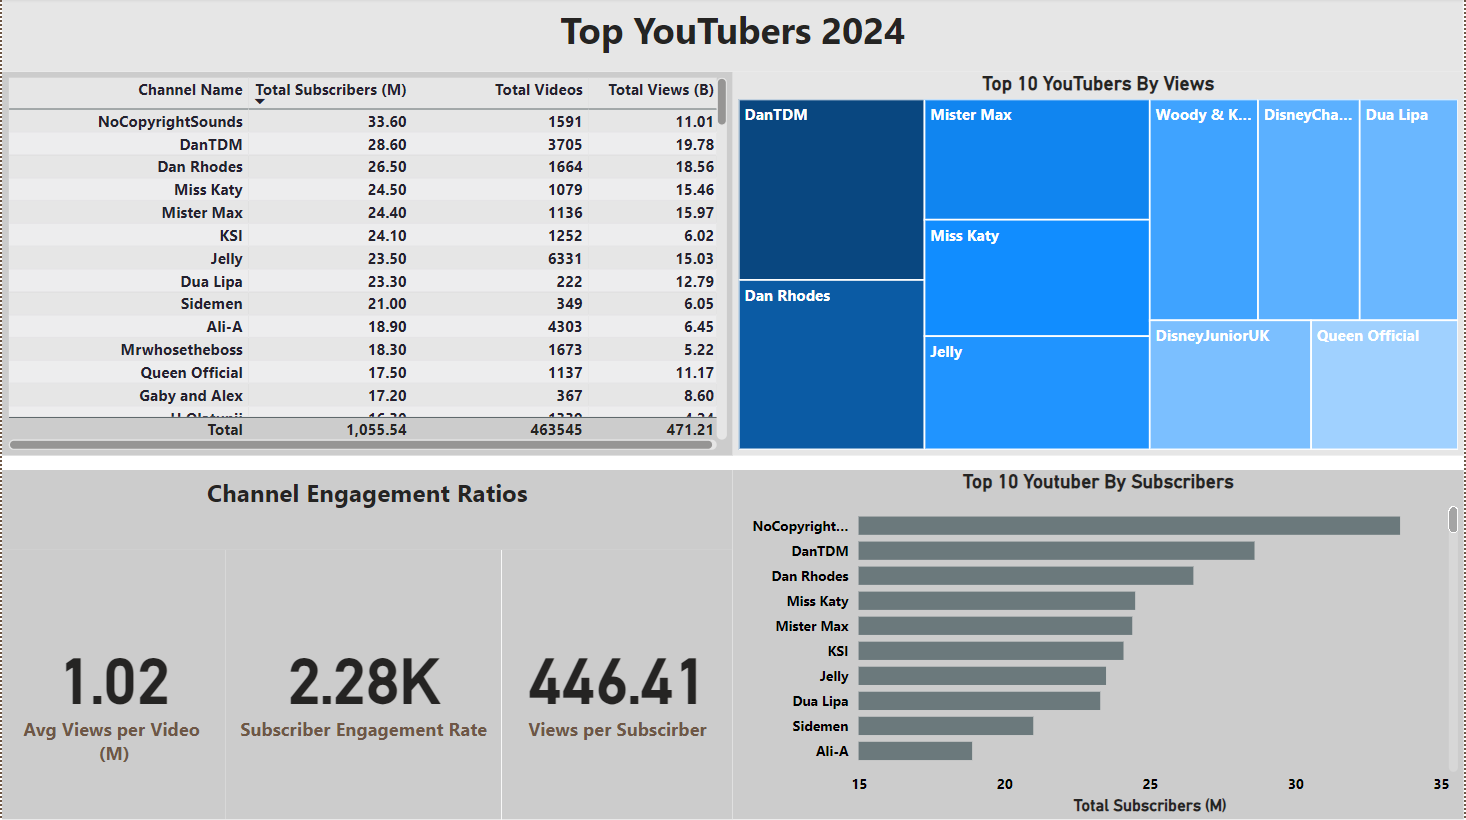

What the dashboard file says about the page in this screenshot:
{"tool":"powerbi","page":{"name":"yt_data","canvas":[1280,720],"ordinal":0},"visuals":[{"type":"textbox","box":[0,0,1280,65.2],"z":0},{"type":"tableEx","fields":{"Values":["view_youtubers_2024.channel_name","view_youtubers_2024.Total Subscribers (M)","view_youtubers_2024.Total Videos","view_youtubers_2024.Total Views (B)"]},"box":[0,65.2,640,335.6],"z":1000},{"type":"treemap","title":"Top 10 YouTubers By Views","fields":{"Group":["view_youtubers_2024.channel_name"],"Values":["view_youtubers_2024.Total Views (B)"]},"box":[640,65.2,640,335.6],"z":2000},{"type":"card","fields":{"Values":["view_youtubers_2024.Avg Views per Video (M)"]},"box":[0,483.4,196.5,236.4],"z":3000},{"type":"card","fields":{"Values":["view_youtubers_2024.Subscriber Engagement Rate"]},"box":[196.5,483.4,241.2,236.4],"z":4000},{"type":"card","fields":{"Values":["view_youtubers_2024.Views per Subscirber"]},"box":[437.7,483.4,202.3,236.4],"z":5000},{"type":"clusteredBarChart","title":"Top 10 Youtuber By Subscribers ","fields":{"Category":["view_youtubers_2024.channel_name"],"Y":["view_youtubers_2024.Total Subscribers (M)"]},"box":[640,413.4,640,306.4],"z":6000},{"type":"textbox","box":[0,413.4,640,70],"z":7000}]}

Visuals, with their boxes in screenshot pixels (x1, y1, x2, y2), scaled from the page's 1280x720 canvas onto the 1466x820 screenshot:
textbox: 0 0 1465 74
tableEx - view_youtubers_2024.channel_name x view_youtubers_2024.Total Subscribers (M): 0 74 733 456
"Top 10 YouTubers By Views" treemap: 733 74 1465 456
card - view_youtubers_2024.Avg Views per Video (M): 0 551 225 819
card - view_youtubers_2024.Subscriber Engagement Rate: 225 551 501 819
card - view_youtubers_2024.Views per Subscirber: 501 551 733 819
"Top 10 Youtuber By Subscribers " clusteredBarChart: 733 471 1465 819
textbox: 0 471 733 551
